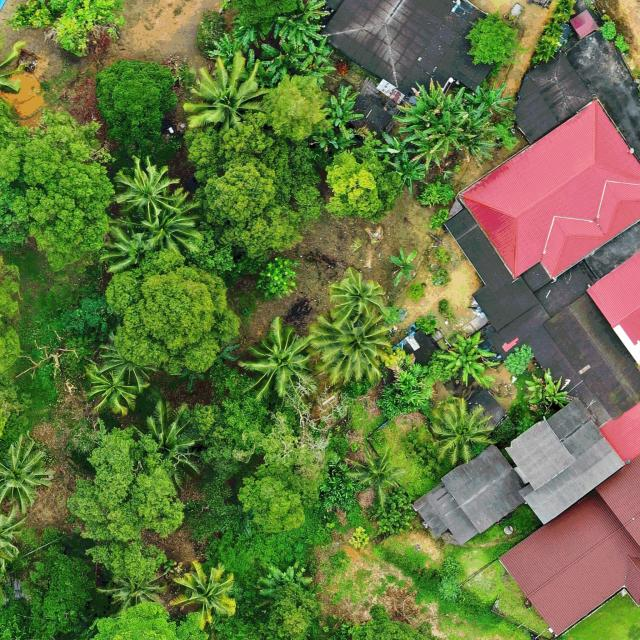Tree: (184, 109, 322, 264), (0, 110, 116, 272), (105, 266, 242, 379), (65, 417, 185, 541), (0, 542, 93, 640), (94, 59, 180, 148), (126, 402, 204, 496), (182, 55, 268, 140), (305, 306, 395, 387), (8, 0, 128, 58), (239, 317, 317, 403), (322, 146, 403, 220), (341, 441, 412, 512), (258, 74, 332, 142), (89, 599, 208, 640), (113, 152, 182, 221), (426, 397, 494, 465), (170, 560, 237, 629), (0, 430, 55, 511), (142, 187, 203, 260), (429, 329, 499, 390), (94, 216, 153, 282), (93, 568, 169, 614), (85, 539, 170, 578), (84, 360, 142, 416), (328, 266, 386, 321), (464, 13, 520, 68), (322, 86, 366, 139), (254, 254, 298, 302), (461, 106, 498, 163), (387, 150, 434, 194), (260, 43, 308, 85), (422, 110, 463, 155), (524, 367, 568, 408), (464, 81, 515, 115), (278, 15, 324, 50), (374, 130, 416, 164), (410, 128, 441, 170), (298, 35, 334, 71), (206, 32, 250, 61), (388, 246, 418, 288), (230, 16, 264, 49), (416, 180, 456, 208), (413, 79, 445, 111), (392, 103, 427, 131), (439, 87, 469, 118), (298, 0, 329, 20)
